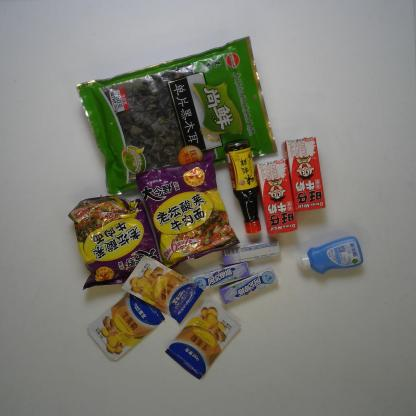Candy: (219, 266, 280, 307), (184, 263, 252, 293), (220, 238, 283, 267)
Dried Food: (71, 34, 278, 195)
Instant Noodles: (134, 154, 240, 266), (65, 192, 167, 294)
Milk: (251, 155, 300, 239), (286, 135, 329, 213)
Personal Hygiene: (298, 237, 366, 276)
Seasoner: (86, 280, 166, 368), (164, 297, 244, 379), (118, 252, 206, 323), (223, 135, 263, 236)
